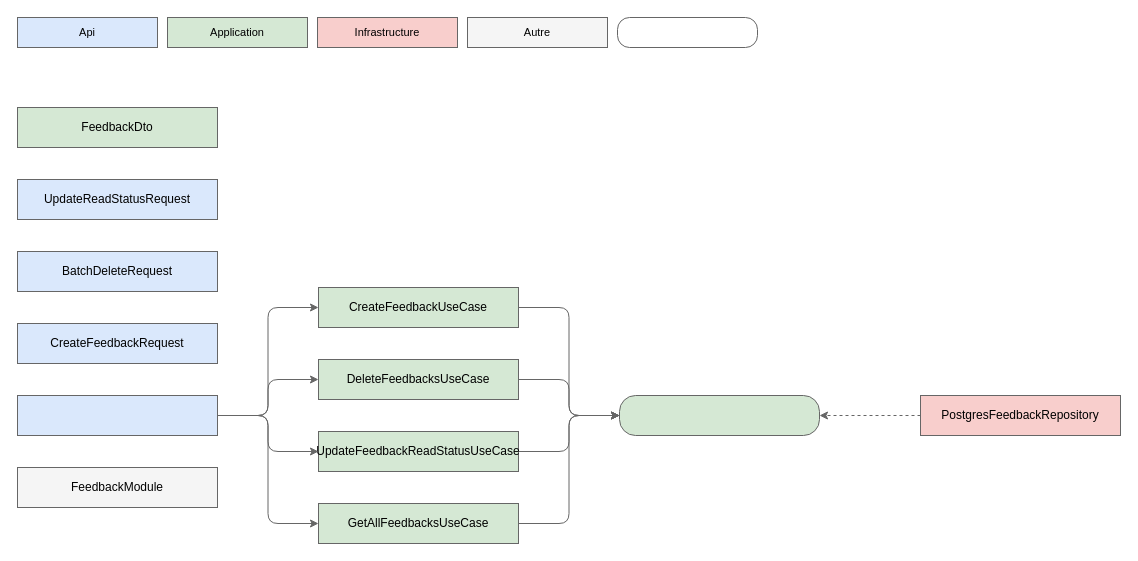
The diagram is 1138 pixels wide and 561 high, and some of its shapes have lost their labels. Each missing label, with the box of its shape:
FeedbackController: (16, 394, 218, 436)
IFeedbackRepository: (618, 394, 820, 436)
Port (interface): (616, 16, 758, 48)
